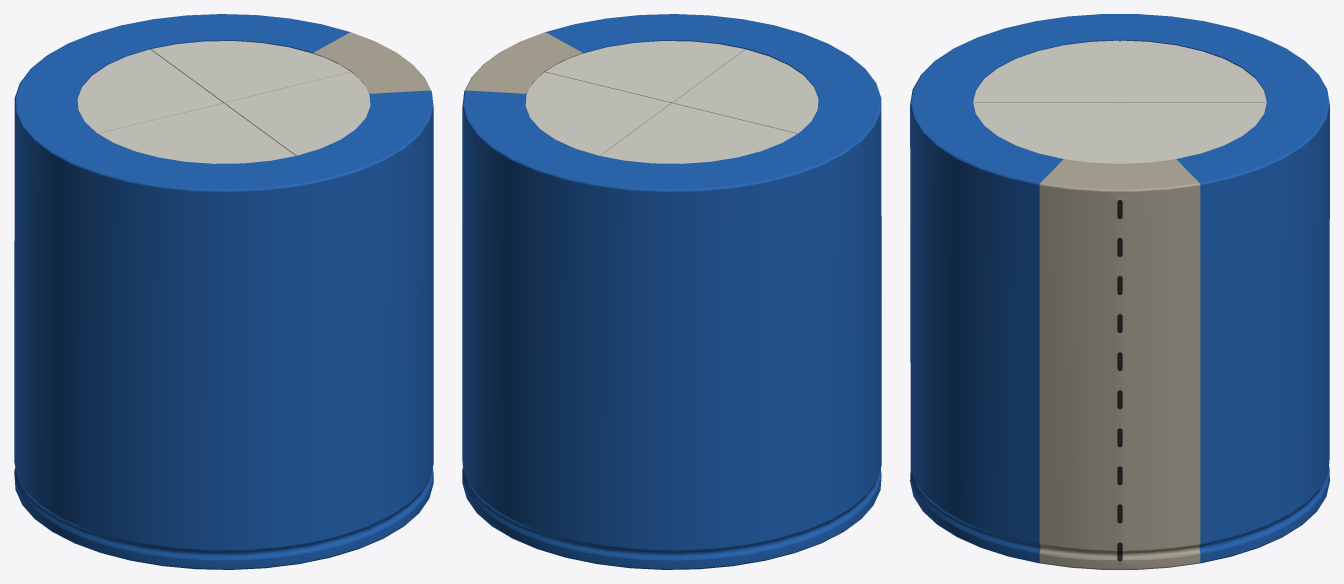
File: kc-cp_radial_d40.0mm_p10.00mm_snapin.glb
3 renders of one model, left to right at view 1: azimuth 30°, elevation 25°; view 2: azimuth 150°, elevation 25°; view 3: azimuth 270°, elevation 25°, orthographic.
Visible parts, largest first — view 1: 0_0.16666666666666666_0.5_0, 0.6666666666666666_0.6666666666666666_0.5833333333333334_0.8, 0.4166666666666667_0.4166666666666667_0.3333333333333333_0; view 2: 0_0.16666666666666666_0.5_0, 0.6666666666666666_0.6666666666666666_0.5833333333333334_0.8, 0.4166666666666667_0.4166666666666667_0.3333333333333333_0; view 3: 0_0.16666666666666666_0.5_0, 0.4166666666666667_0.4166666666666667_0.3333333333333333_0, 0.6666666666666666_0.6666666666666666_0.5833333333333334_0.8, 0_0_0_0.
Part boxes in pixels (left/top/right/bottom): 0_0.16666666666666666_0.5_0: left=14, top=14, right=433, bottom=569; 0.6666666666666666_0.6666666666666666_0.5833333333333334_0.8: left=77, top=41, right=370, bottom=163; 0.4166666666666667_0.4166666666666667_0.3333333333333333_0: left=313, top=32, right=430, bottom=94; 0_0.16666666666666666_0.5_0: left=462, top=14, right=881, bottom=569; 0.6666666666666666_0.6666666666666666_0.5833333333333334_0.8: left=525, top=41, right=818, bottom=163; 0.4166666666666667_0.4166666666666667_0.3333333333333333_0: left=464, top=32, right=582, bottom=93; 0_0.16666666666666666_0.5_0: left=910, top=14, right=1329, bottom=563; 0.4166666666666667_0.4166666666666667_0.3333333333333333_0: left=1039, top=159, right=1200, bottom=569; 0.6666666666666666_0.6666666666666666_0.5833333333333334_0.8: left=973, top=40, right=1266, bottom=163; 0_0_0_0: left=1117, top=200, right=1122, bottom=561.
Size of the model in its own units: 4 by 4.2 by 4.
